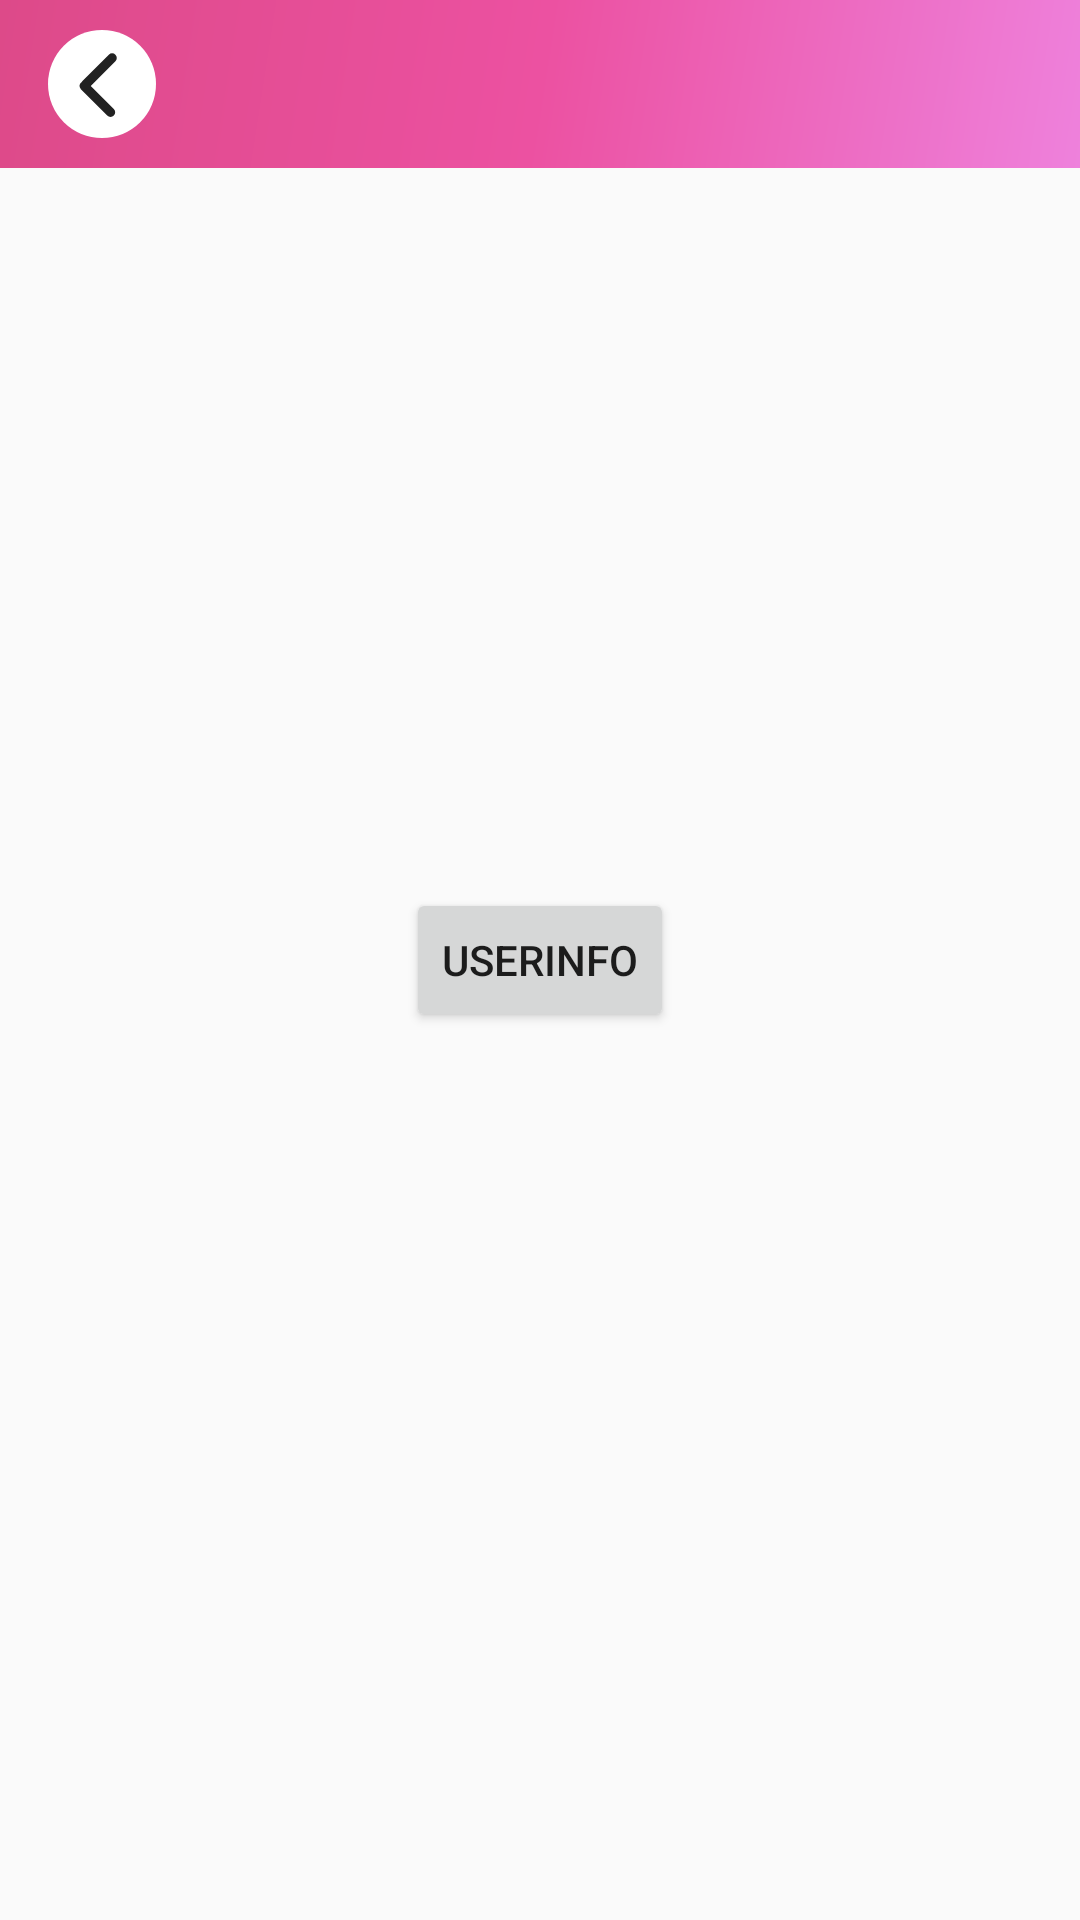

Named icons in this screenshot (1080px×1920px) and their centers, point (x, y):
bar back: point (102, 84)
